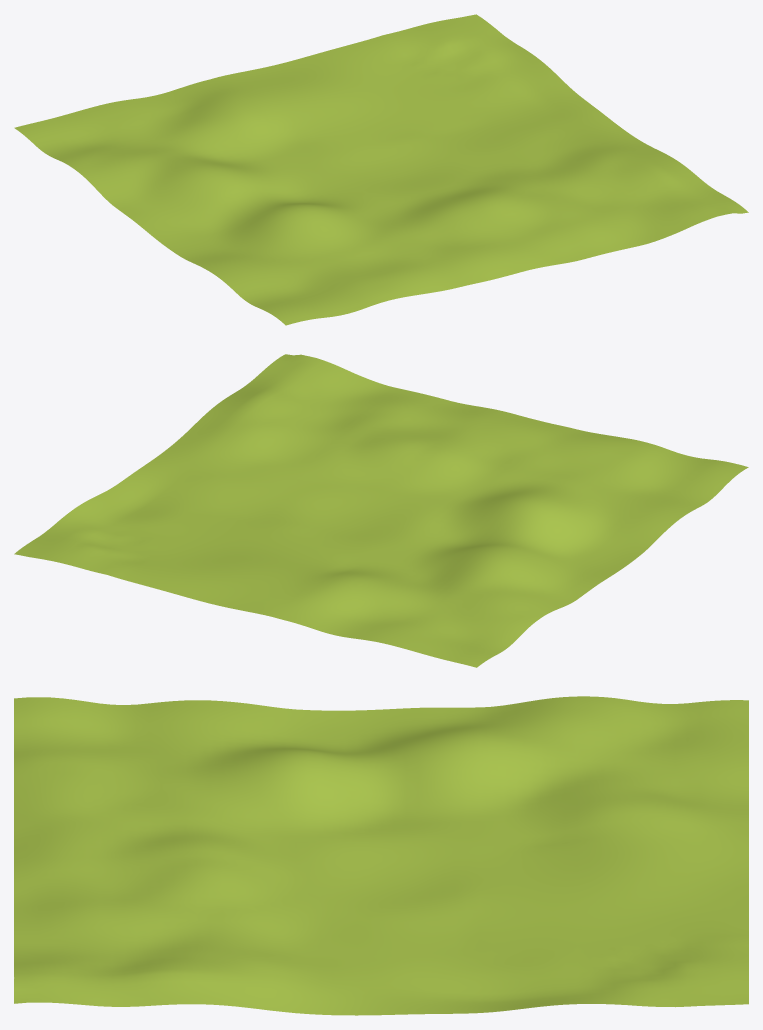
Rendered from chemin_courve3.fbx.
The picture shows the model from 3 angles, top to bottom: view 1: azimuth 30°, elevation 25°; view 2: azimuth 150°, elevation 25°; view 3: azimuth 270°, elevation 25°; orthographic projection. The views are drawn at different scales.
Visible parts, largest first — view 1: chemin_courve3; view 2: chemin_courve3; view 3: chemin_courve3.
Part boxes in pixels (x1=…): chemin_courve3: x1=14, y1=14, x2=748, y2=325; chemin_courve3: x1=14, y1=354, x2=748, y2=667; chemin_courve3: x1=14, y1=696, x2=748, y2=1015.
Bounding box in the file's own units: 709 × 34.18 × 720.
